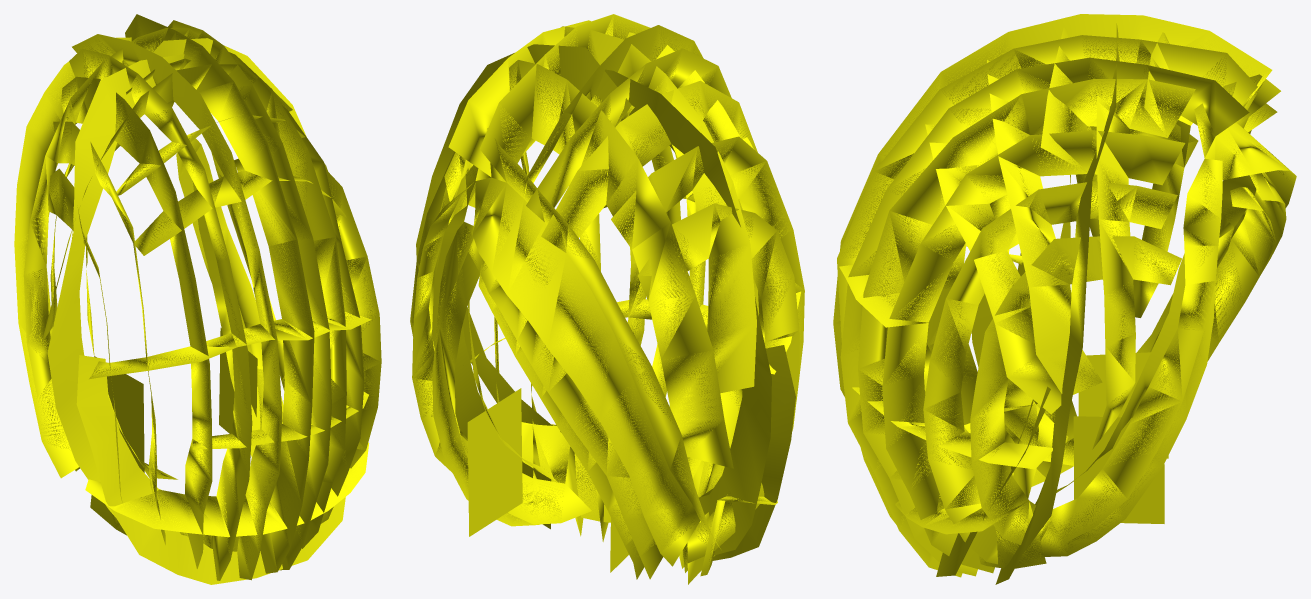
The model's file is rb-Female_Party_02.glb.
3 renders of one model, left to right at view 1: azimuth 30°, elevation 25°; view 2: azimuth 150°, elevation 25°; view 3: azimuth 270°, elevation 25°, orthographic. The views are drawn at different scales.
Parts seen in each view (by area): view 1: hair_Female_Party_02; view 2: hair_Female_Party_02; view 3: hair_Female_Party_02.
Boxes of the visible parts, left/top/right/bottom form: hair_Female_Party_02: left=14, top=14, right=381, bottom=584; hair_Female_Party_02: left=410, top=14, right=804, bottom=584; hair_Female_Party_02: left=833, top=14, right=1296, bottom=584.
Size of the model in its own units: 0.2016 by 0.313 by 0.2456.
Materials: 1 (1 with a texture image).
